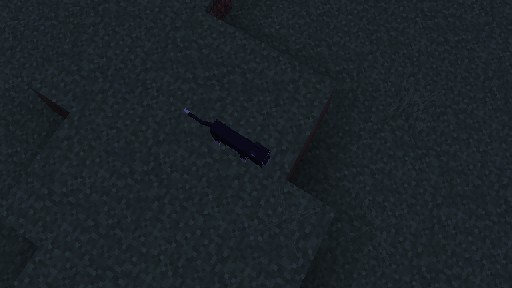cat: (183, 107, 270, 167)
